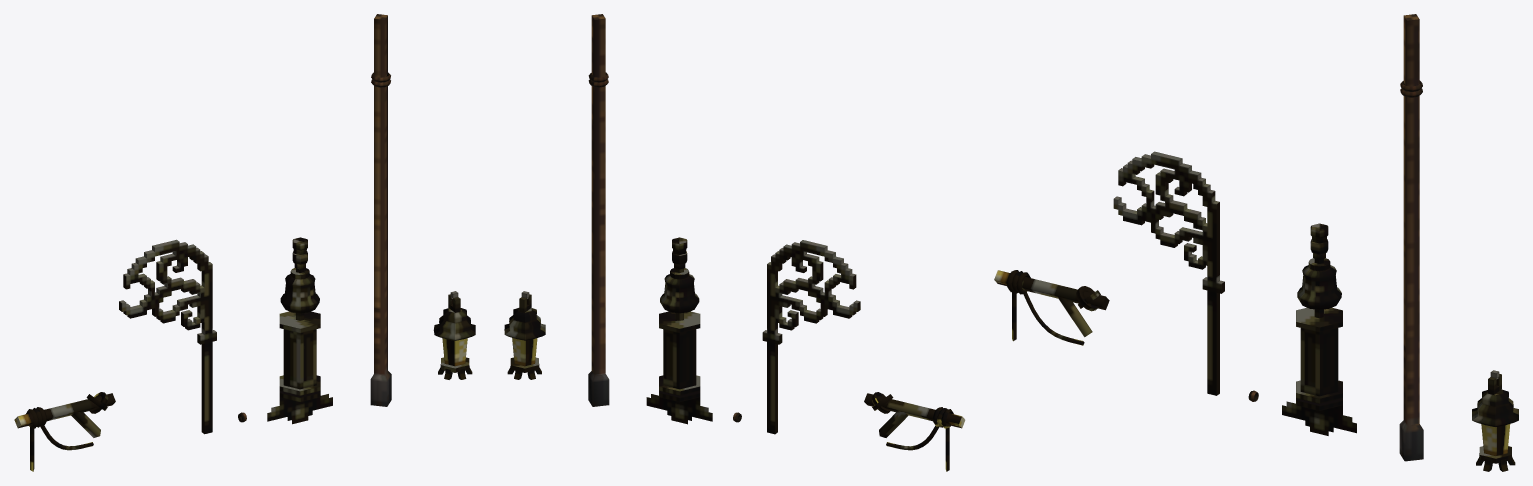
File: EnvObjMD_Lamppost_A_Base.FBX
3 views of the same model, side by side, from view 1: azimuth 30°, elevation 25°; view 2: azimuth 150°, elevation 25°; view 3: azimuth 330°, elevation 25° (orthographic). The views are drawn at different scales.
Visible parts, largest first — view 1: EnvObjMD_Lamppost_A_Pole, EnvObjMD_Lamppost_A_Base, EnvObjMD_Lamppost_B_Base, EnvObjMD_Lamppost_B_Pole, EnvObjMD_Lamppost_A_Lamp; view 2: EnvObjMD_Lamppost_A_Pole, EnvObjMD_Lamppost_A_Base, EnvObjMD_Lamppost_B_Base, EnvObjMD_Lamppost_B_Pole, EnvObjMD_Lamppost_A_Lamp; view 3: EnvObjMD_Lamppost_A_Pole, EnvObjMD_Lamppost_A_Base, EnvObjMD_Lamppost_B_Base, EnvObjMD_Lamppost_B_Pole, EnvObjMD_Lamppost_A_Lamp.
Boxes of the visible parts, x1,y1,x2,y2 form: EnvObjMD_Lamppost_A_Pole: (119,239,216,434); EnvObjMD_Lamppost_A_Base: (267,237,332,424); EnvObjMD_Lamppost_B_Base: (370,14,391,406); EnvObjMD_Lamppost_B_Pole: (14,392,115,471); EnvObjMD_Lamppost_A_Lamp: (433,291,475,379); EnvObjMD_Lamppost_A_Pole: (762,240,860,434); EnvObjMD_Lamppost_A_Base: (646,237,712,424); EnvObjMD_Lamppost_B_Base: (588,14,609,406); EnvObjMD_Lamppost_B_Pole: (864,392,965,471); EnvObjMD_Lamppost_A_Lamp: (504,291,545,379); EnvObjMD_Lamppost_A_Pole: (1113,151,1224,395); EnvObjMD_Lamppost_A_Base: (1282,223,1356,435); EnvObjMD_Lamppost_B_Base: (1399,14,1423,461); EnvObjMD_Lamppost_B_Pole: (994,270,1109,345); EnvObjMD_Lamppost_A_Lamp: (1472,370,1518,471).
Bounding box in the file's own units: 555 × 447 × 43.62.
4 materials, 4 textured.
